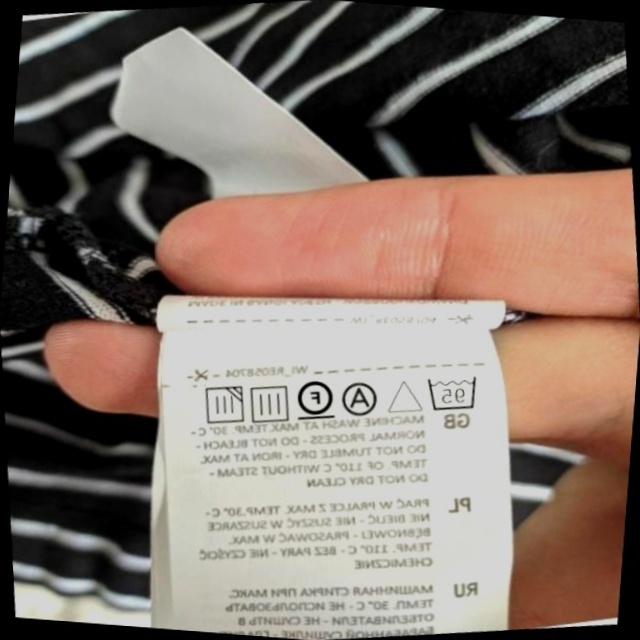95C: (421, 368, 483, 417)
bleach: (384, 372, 425, 419)
drip_dry: (244, 378, 294, 427)
drip_dry_in_shade: (196, 380, 248, 431)
dry_clean: (339, 377, 383, 420)
dry_clean_petrol_only: (292, 373, 338, 424)
